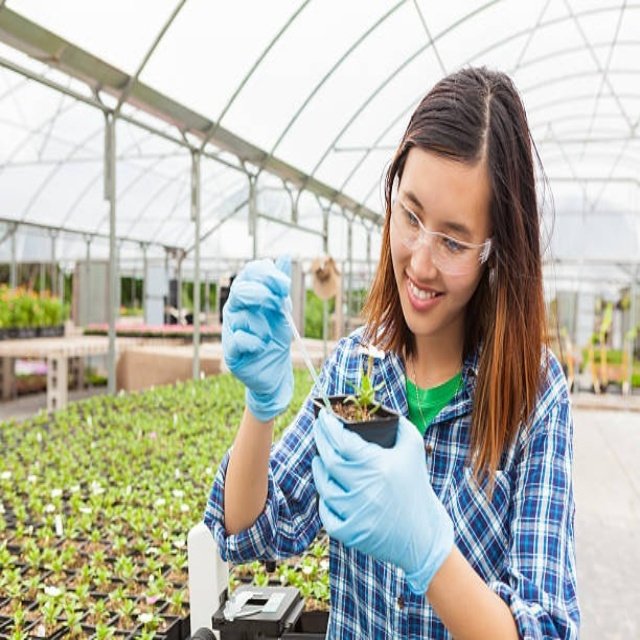Gafas: (391, 174, 496, 276)
Guantes: (310, 407, 455, 592), (221, 255, 296, 420)
Sin_mascara: (397, 262, 448, 328)
